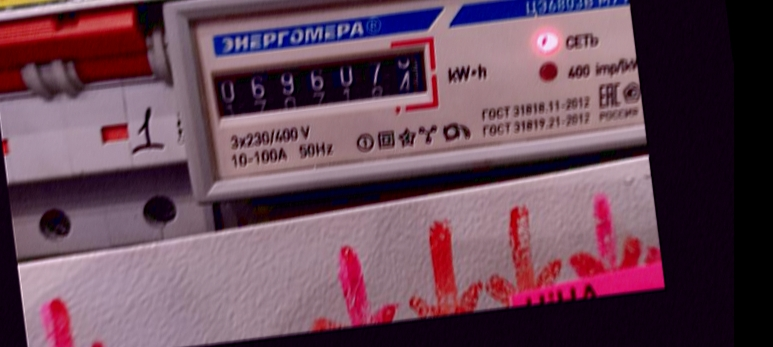0: (217, 77, 237, 103), (336, 61, 354, 88)
4: (394, 69, 413, 94)
6: (247, 74, 267, 100), (306, 65, 326, 91)
7: (366, 59, 384, 87)
9: (277, 70, 296, 96)
screen: (196, 30, 445, 133)
